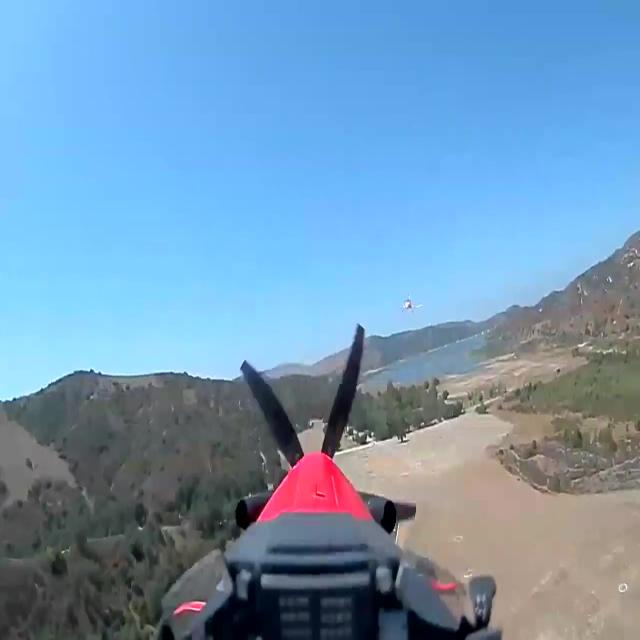iha: (398, 293, 422, 315)
